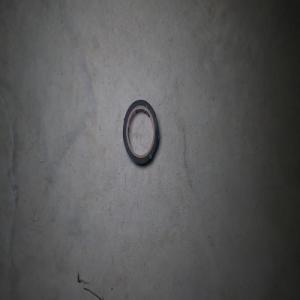Tape: (122, 99, 159, 166)
